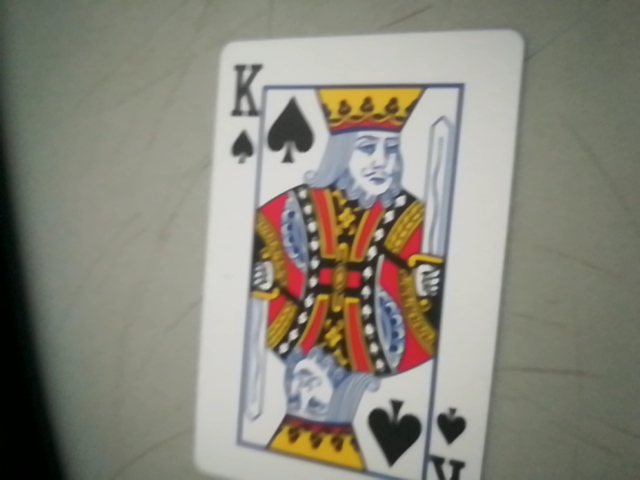ht k: (214, 55, 283, 170)
